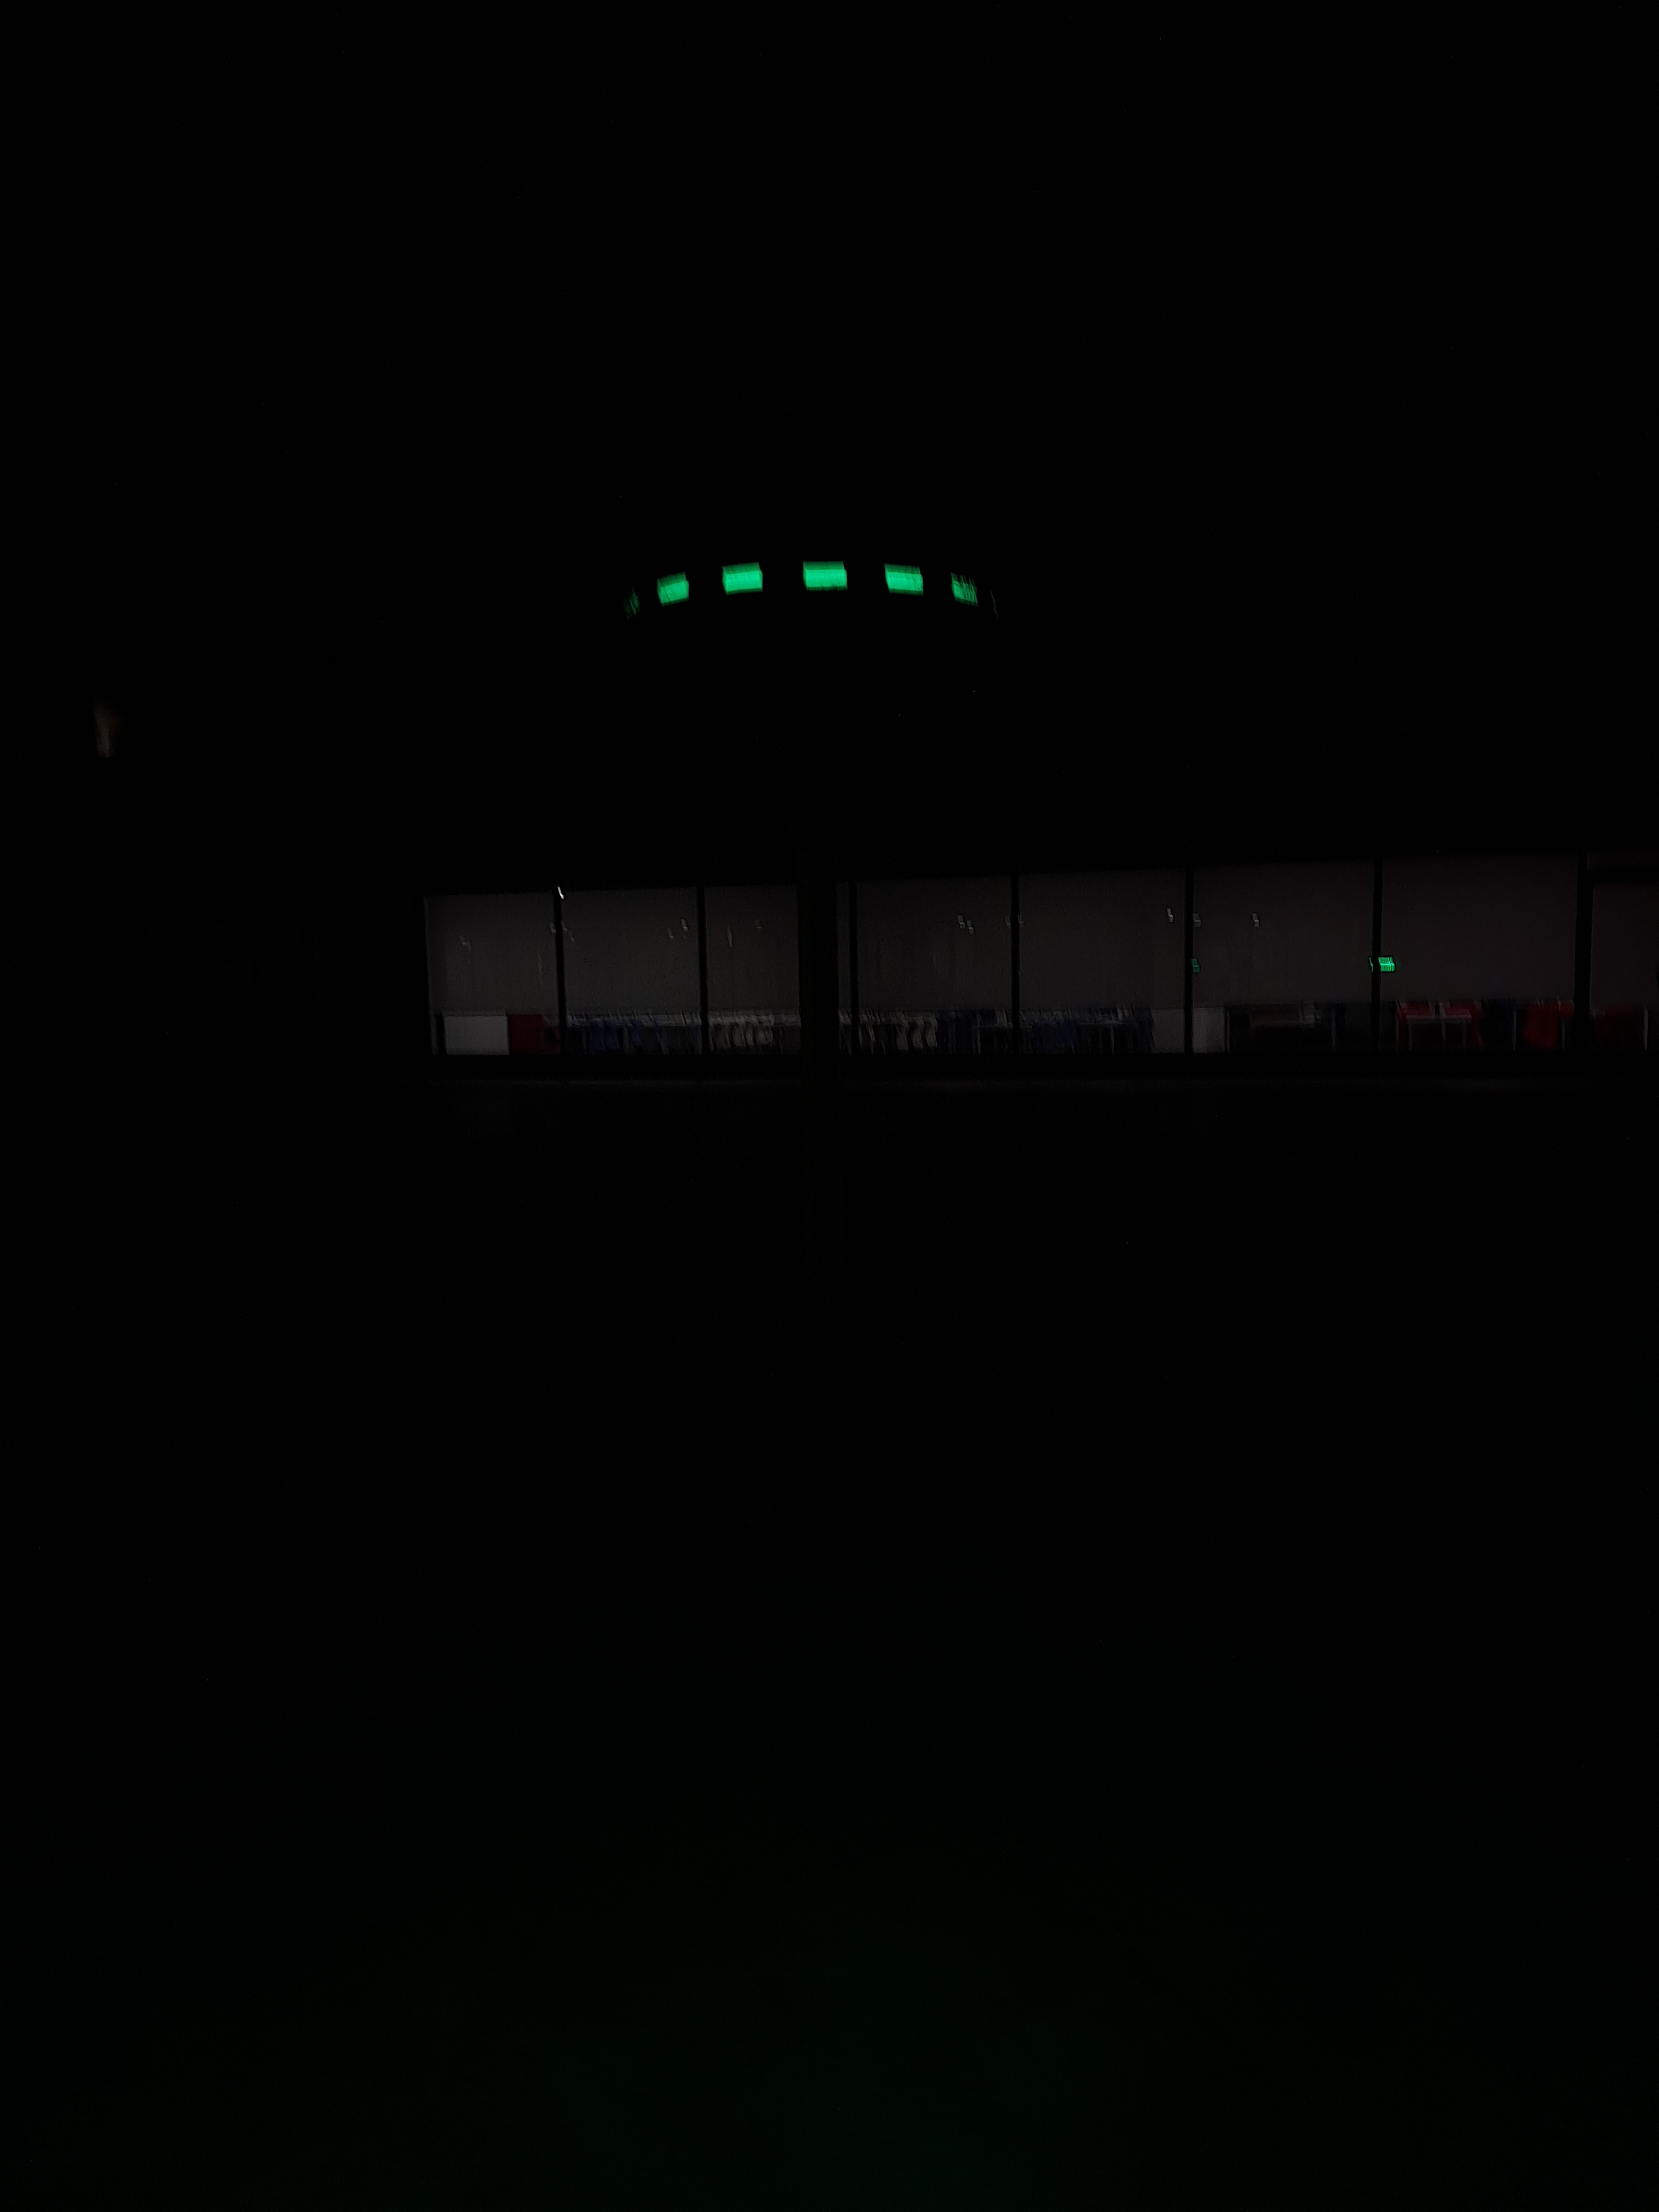hoop: (650, 556, 988, 611)
